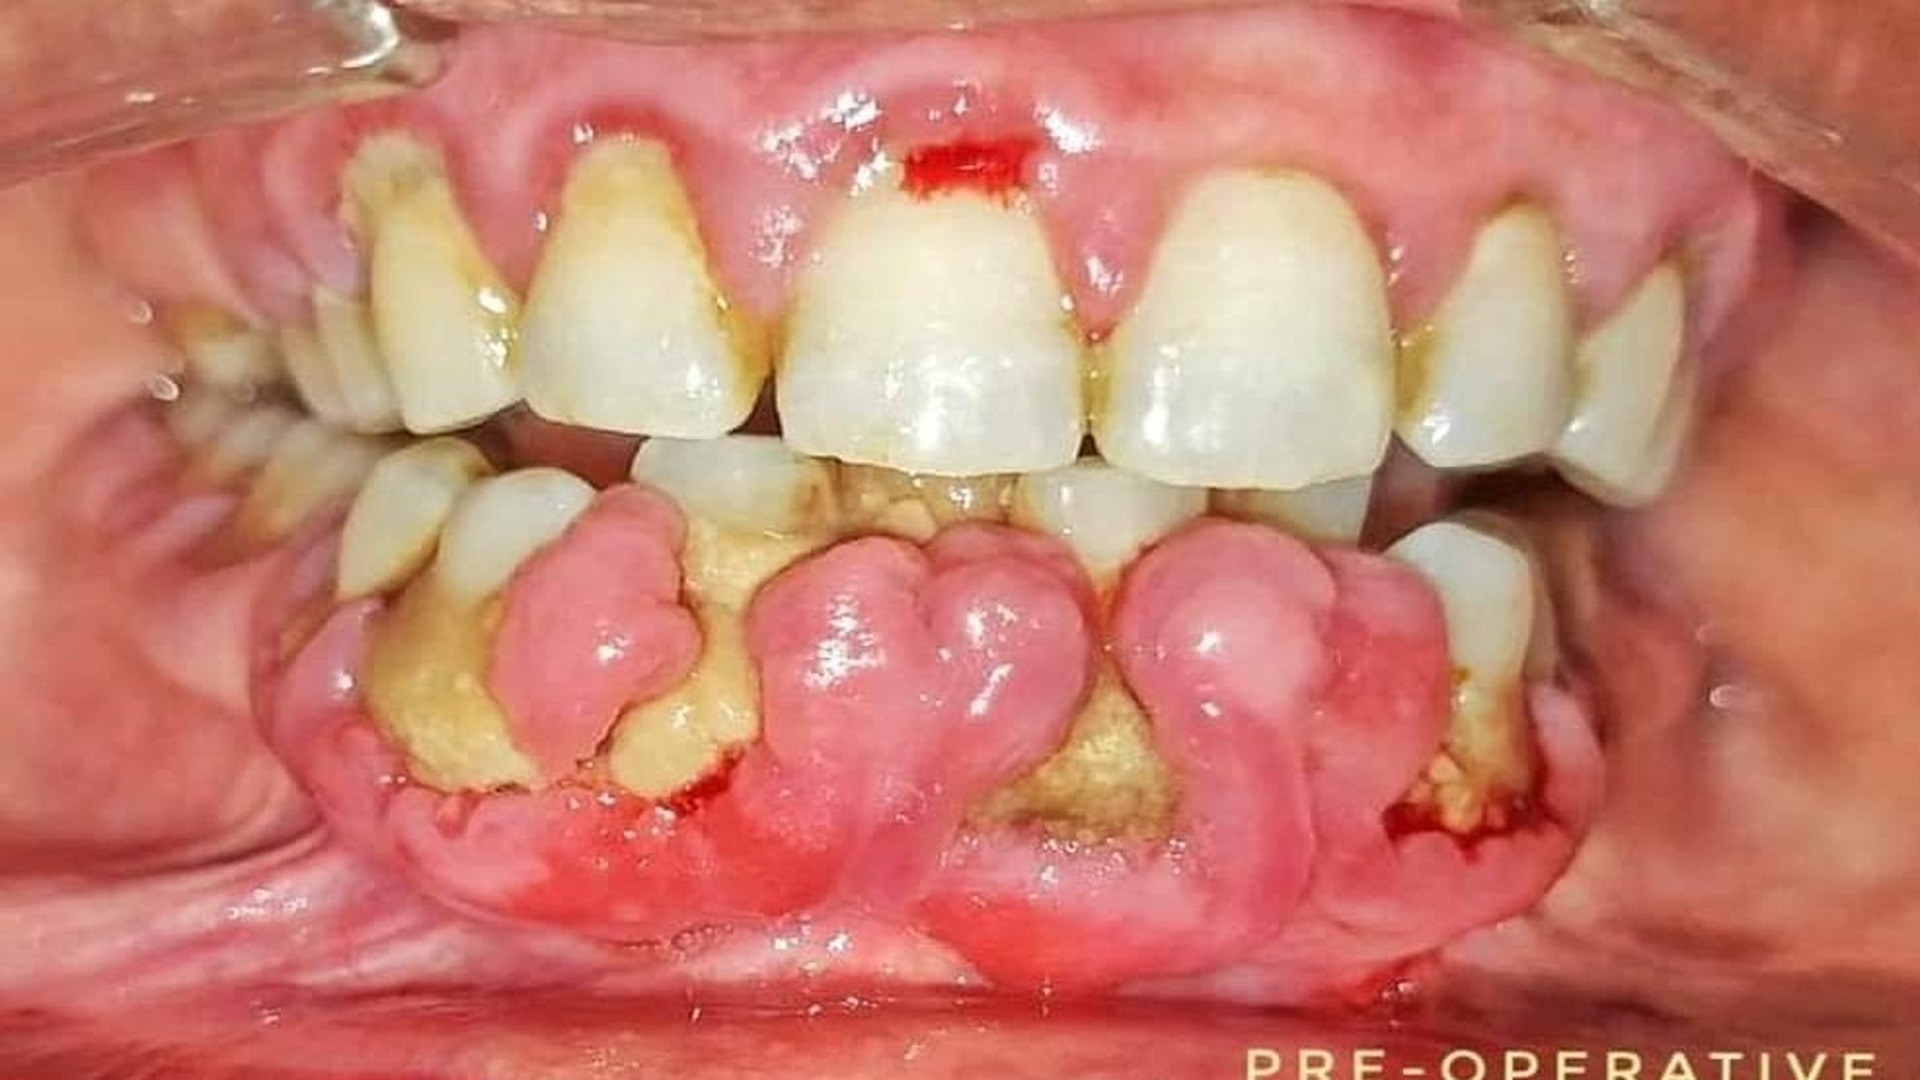tooth: (775, 146, 1087, 477), (1091, 167, 1395, 491), (509, 132, 771, 439), (338, 131, 520, 434), (1395, 204, 1578, 468), (1545, 258, 1692, 508), (1385, 512, 1536, 715), (1007, 452, 1208, 585), (335, 436, 491, 601), (438, 467, 597, 611), (630, 435, 820, 534), (281, 285, 404, 433), (251, 421, 378, 542)
